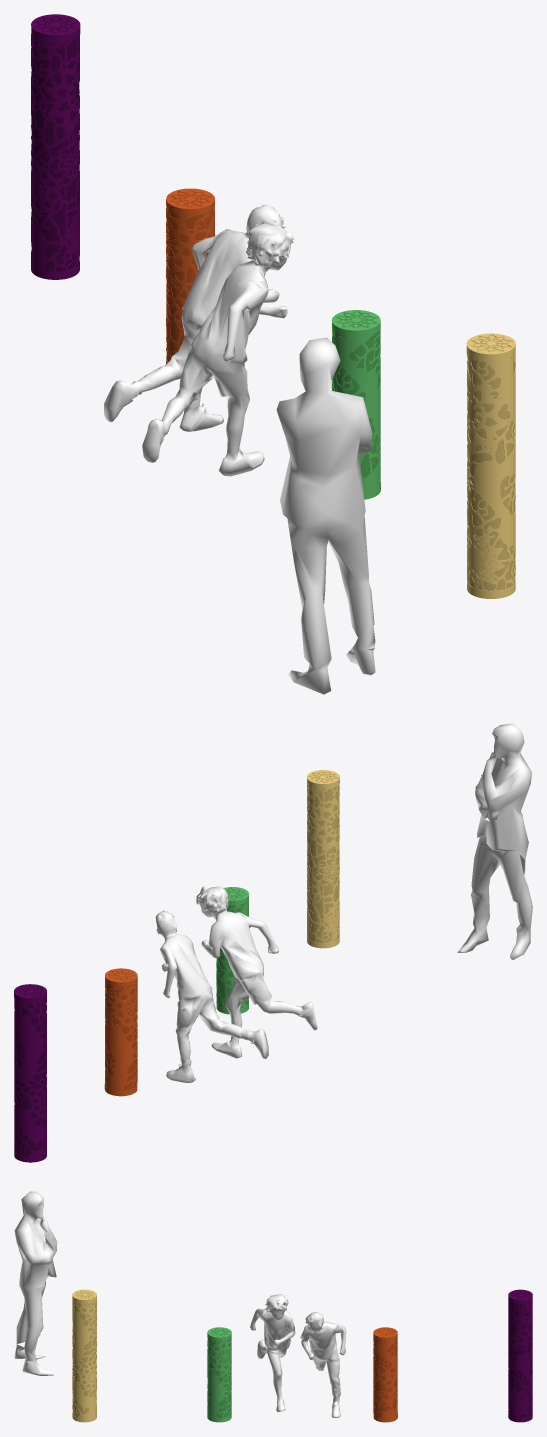
3 renders of one model, top to bottom at view 1: azimuth 30°, elevation 25°; view 2: azimuth 150°, elevation 25°; view 3: azimuth 270°, elevation 25°, orthographic. The views are drawn at different scales.
Parts seen in each view (by area): view 1: 291_person, boys, bollard_rg, bollard_rg001, Circle010, Circle001, Bollard_sm, Bollard_sm001, Circle009, Circle002, Object001, Object002 (+1 smaller); view 2: boys, 291_person, bollard_rg001, bollard_rg, Circle001, Bollard_sm001, Circle010, Circle009, Bollard_sm, Circle002; view 3: 291_person, boys, bollard_rg, bollard_rg001, Bollard_sm, Bollard_sm001, Circle010, Circle001, Circle009, Circle002.
Boxes of the visible parts, <box> form: 291_person: <box>276,337,375,694</box>; boys: <box>104,204,293,476</box>; bollard_rg: <box>466,346,515,598</box>; bollard_rg001: <box>31,27,80,279</box>; Circle010: <box>31,16,79,271</box>; Circle001: <box>467,334,515,590</box>; Bollard_sm: <box>332,322,380,492</box>; Bollard_sm001: <box>166,199,214,362</box>; Circle009: <box>166,190,212,362</box>; Circle002: <box>332,311,380,478</box>; Object001: <box>466,333,515,354</box>; Object002: <box>31,14,80,35</box>; boys: <box>155,886,317,1082</box>; 291_person: <box>457,723,532,959</box>; bollard_rg001: <box>14,992,46,1162</box>; bollard_rg: <box>307,778,339,948</box>; Circle001: <box>307,771,339,942</box>; Bollard_sm001: <box>105,977,137,1090</box>; Circle010: <box>14,985,46,1156</box>; Circle009: <box>105,970,137,1090</box>; Bollard_sm: <box>216,896,248,1008</box>; Circle002: <box>216,888,248,1007</box>; 291_person: <box>14,1191,57,1375</box>; boys: <box>250,1294,346,1417</box>; bollard_rg: <box>72,1296,96,1422</box>; bollard_rg001: <box>508,1296,532,1422</box>; Bollard_sm: <box>207,1333,231,1418</box>; Bollard_sm001: <box>373,1333,397,1418</box>; Circle010: <box>508,1290,532,1418</box>; Circle001: <box>72,1291,96,1416</box>; Circle009: <box>373,1328,397,1417</box>; Circle002: <box>207,1328,231,1418</box>.
Size of the model in its own units: 1.56 by 1.88 by 5.
